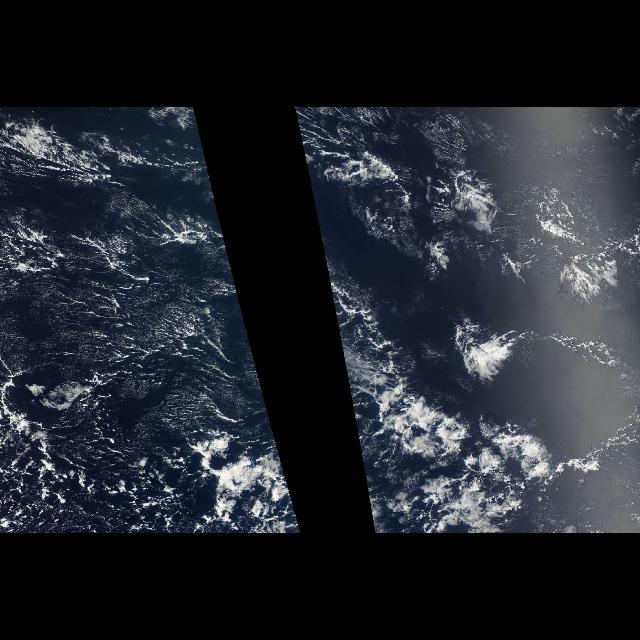Fish: (2, 114, 266, 402), (295, 114, 383, 402)
Flower: (390, 150, 632, 402)
Gravel: (5, 378, 301, 532), (346, 378, 560, 532)
Sugar: (11, 284, 252, 388)
